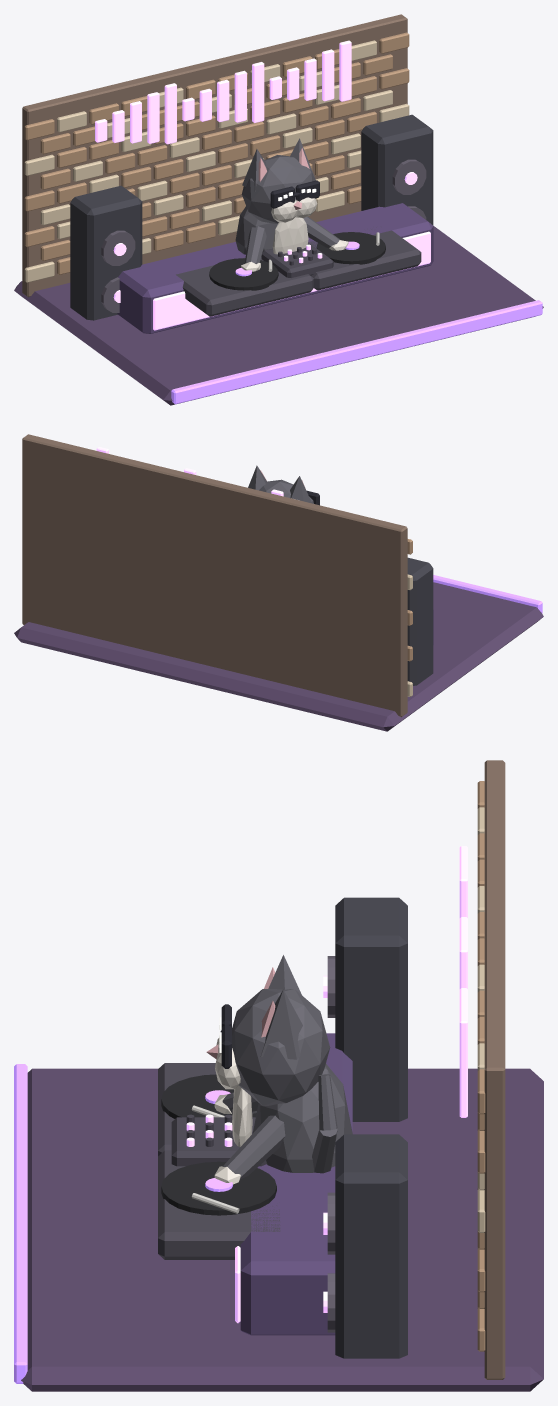
The model's file is scratch.glb.
The picture shows the model from 3 angles, top to bottom: view 1: azimuth 30°, elevation 25°; view 2: azimuth 150°, elevation 25°; view 3: azimuth 270°, elevation 25°; orthographic projection. The views are drawn at different scales.
Visible parts, largest first — view 1: Stage_Platform, BrickWall, DJBooth, Speaker_-1, Stage_Trim, Speaker_1, Platter_L_Body, Platter_R_Body, CatHead, DJBoothGlow, Platter_L, Platter_R (+58 smaller); view 2: BrickWall, Stage_Platform, Speaker_-1, Stage_Trim, CatHead; view 3: Stage_Platform, Speaker_1, Speaker_-1, DJBooth, BrickWall, CatHead, Platter_R_Body, Stage_Trim, CatBody, Platter_R, MixerBody, Platter_L (+7 smaller).
Part boxes in pixels (x1=…): Stage_Platform: x1=14, y1=226, x2=543, y2=405; BrickWall: x1=22, y1=14, x2=407, y2=297; DJBooth: x1=117, y1=203, x2=433, y2=333; Speaker_-1: x1=70, y1=185, x2=142, y2=320; Stage_Trim: x1=171, y1=300, x2=542, y2=404; Speaker_1: x1=361, y1=114, x2=433, y2=225; Platter_L_Body: x1=176, y1=257, x2=313, y2=316; Platter_R_Body: x1=308, y1=227, x2=421, y2=290; CatHead: x1=241, y1=155, x2=315, y2=223; DJBoothGlow: x1=153, y1=231, x2=430, y2=330; Platter_L: x1=209, y1=258, x2=278, y2=290; Platter_R: x1=316, y1=232, x2=385, y2=264; BrickWall: x1=22, y1=434, x2=407, y2=717; Stage_Platform: x1=14, y1=582, x2=543, y2=731; Speaker_-1: x1=407, y1=557, x2=433, y2=685; Stage_Trim: x1=433, y1=575, x2=542, y2=613; CatHead: x1=259, y1=479, x2=313, y2=503; Stage_Platform: x1=21, y1=1068, x2=543, y2=1391; Speaker_1: x1=335, y1=1134, x2=407, y2=1358; Speaker_-1: x1=335, y1=897, x2=407, y2=1121; DJBooth: x1=240, y1=1033, x2=352, y2=1335; BrickWall: x1=484, y1=760, x2=505, y2=1379; CatHead: x1=232, y1=989, x2=330, y2=1105; Platter_R_Body: x1=158, y1=1150, x2=280, y2=1259; Stage_Trim: x1=14, y1=1064, x2=27, y2=1383; CatBody: x1=252, y1=1064, x2=352, y2=1172; Platter_R: x1=161, y1=1161, x2=276, y2=1215; MixerBody: x1=171, y1=1117, x2=266, y2=1166; Platter_L: x1=161, y1=1074, x2=256, y2=1118.
Size of the model in its own units: 8.57 by 4.21 by 6.15.
